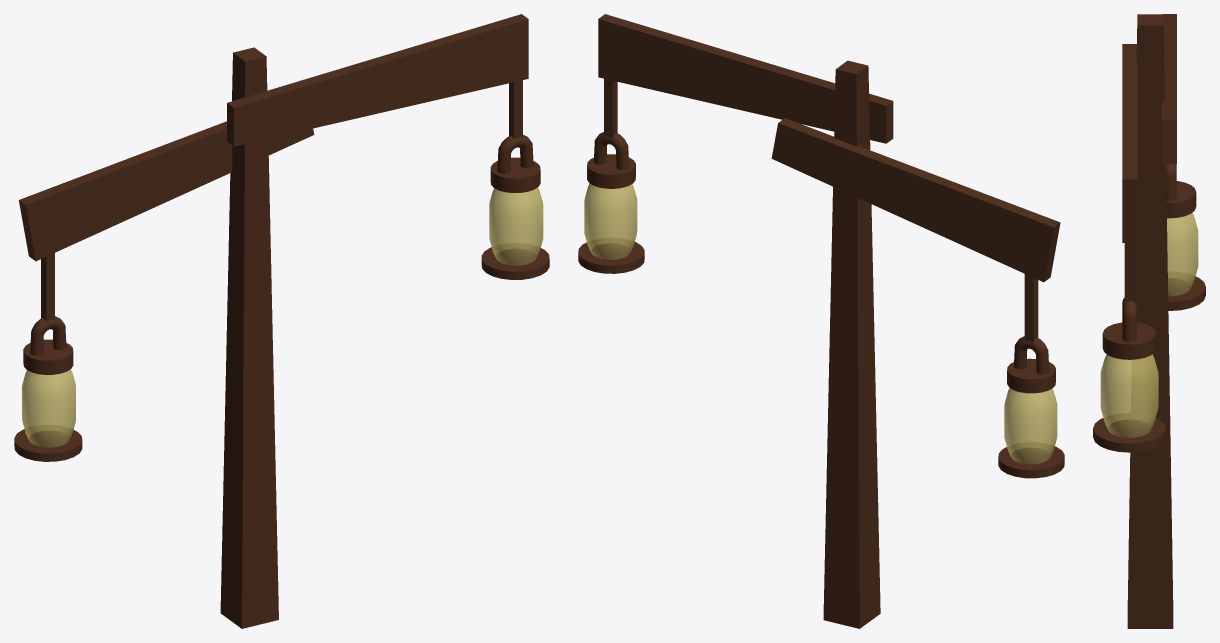
The model's file is Lamp 1.fbx.
The picture shows the model from 3 angles, left to right: view 1: azimuth 30°, elevation 25°; view 2: azimuth 150°, elevation 25°; view 3: azimuth 270°, elevation 25°; orthographic projection. The views are drawn at different scales.
Parts seen in each view (by area): view 1: pCube125; view 2: pCube125; view 3: pCube125.
Boxes of the visible parts, x1=… form: pCube125: x1=14, y1=14, x2=549, y2=628; pCube125: x1=578, y1=14, x2=1064, y2=628; pCube125: x1=1093, y1=14, x2=1205, y2=628.
Bounding box in the file's own units: 13.7 × 14.49 × 2.47.
